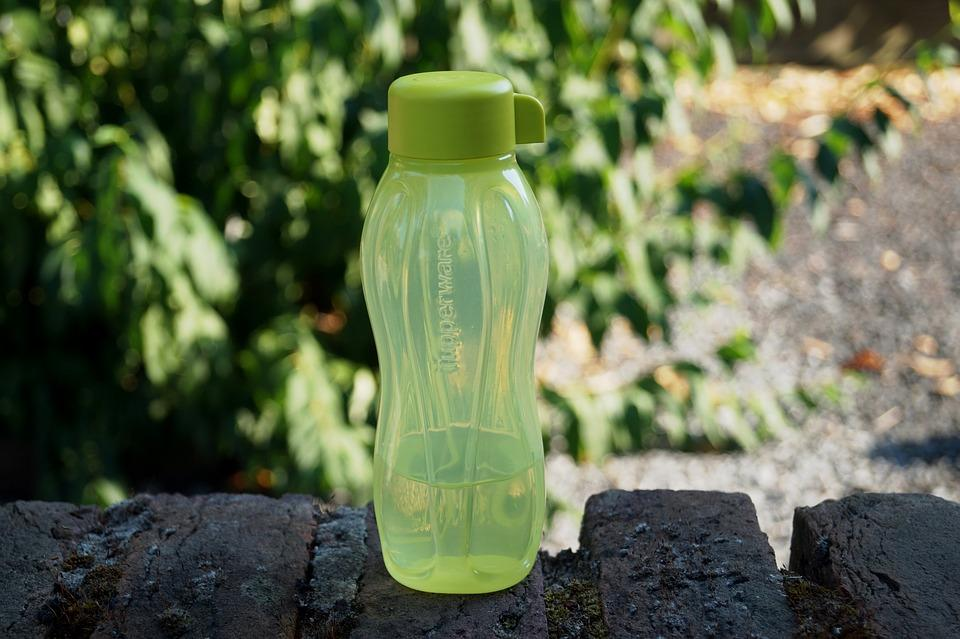bottle: (342, 59, 595, 609)
